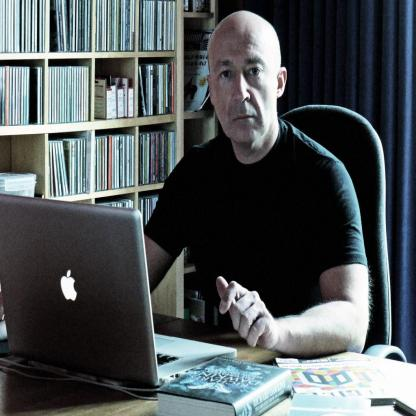board: (0, 189, 237, 390)
